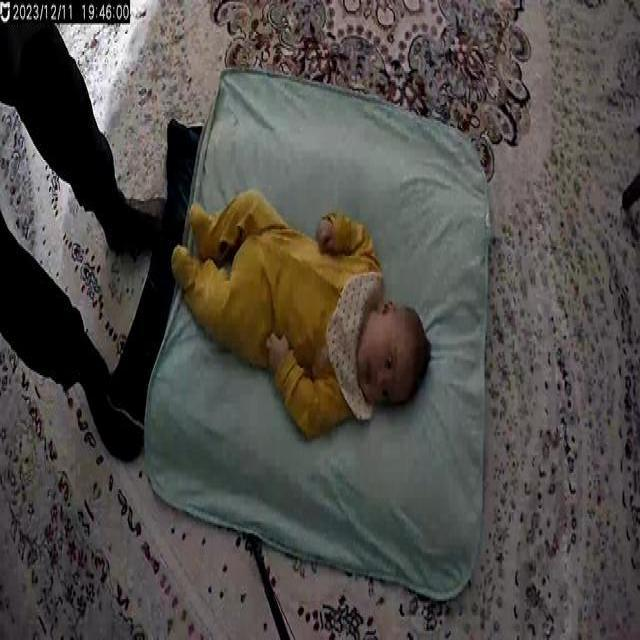baby: (170, 188, 432, 442)
